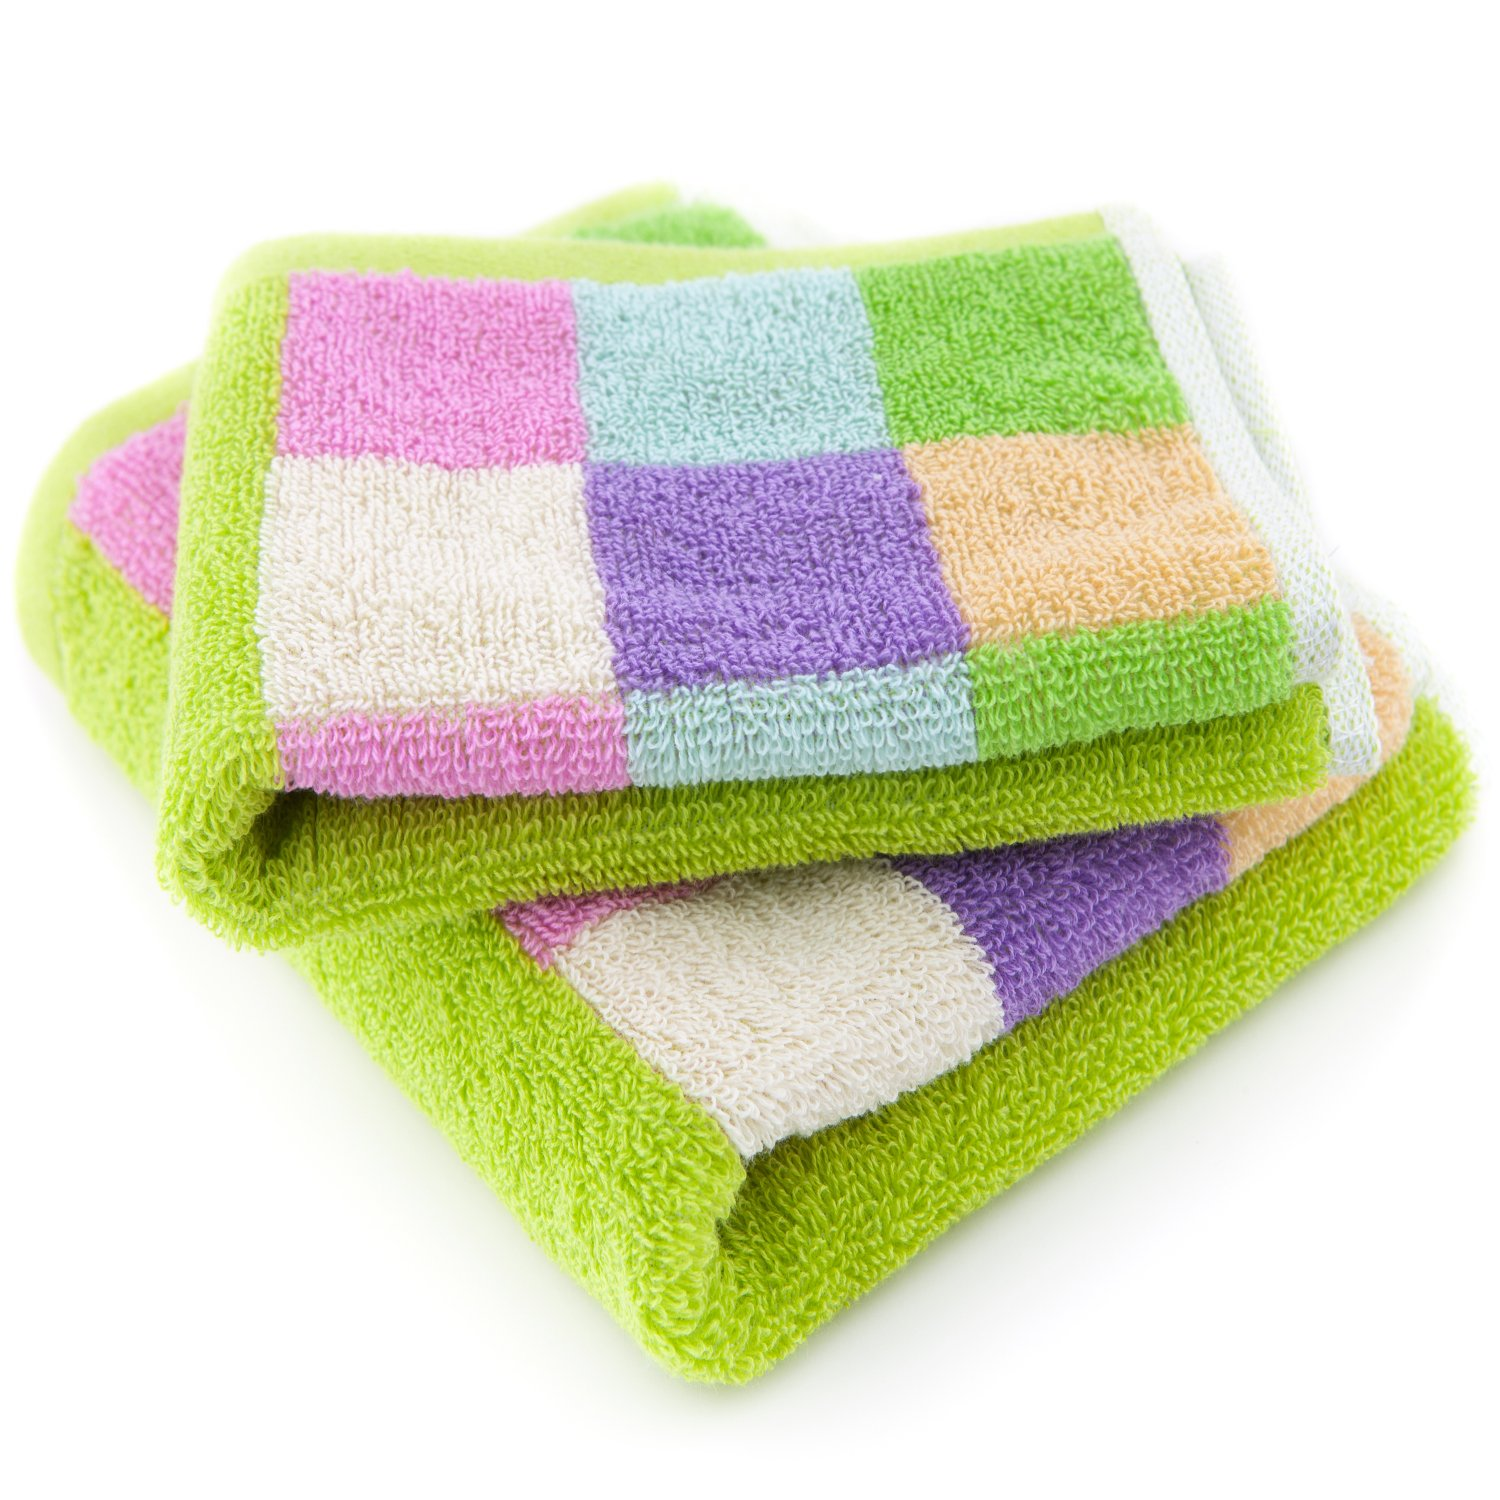flexible: (21, 179, 1482, 1385)
